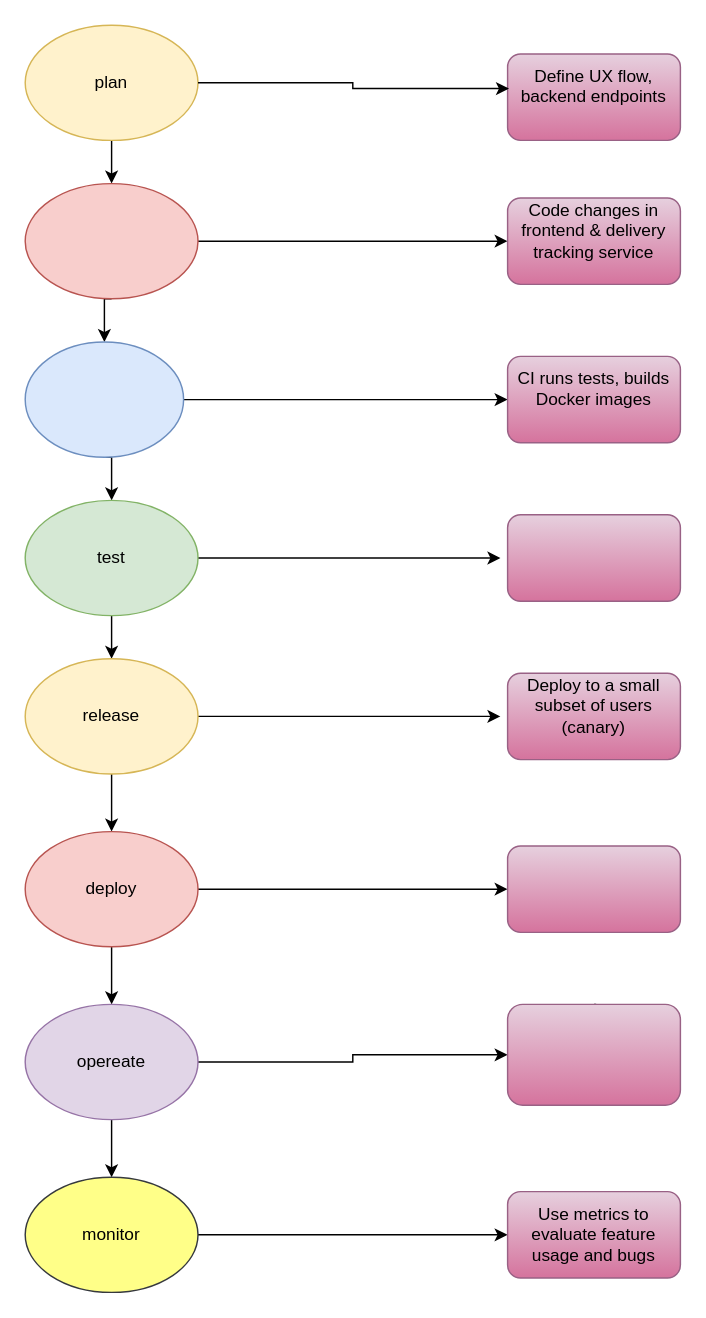
The diagram is 706 pixels wide and 1318 high, and some of its shapes have lost their labels. Here are the shapes that lost their labels. From the top down, the box of each, then its label:
(24, 182, 198, 299): develop
(24, 341, 184, 457): build
(506, 513, 680, 601): E2E + performance testing in staging
(506, 845, 680, 932): Rollout to production using Kubernetes
(506, 1003, 680, 1105): Monitor GPS API response times and delivery partner location accuracy
